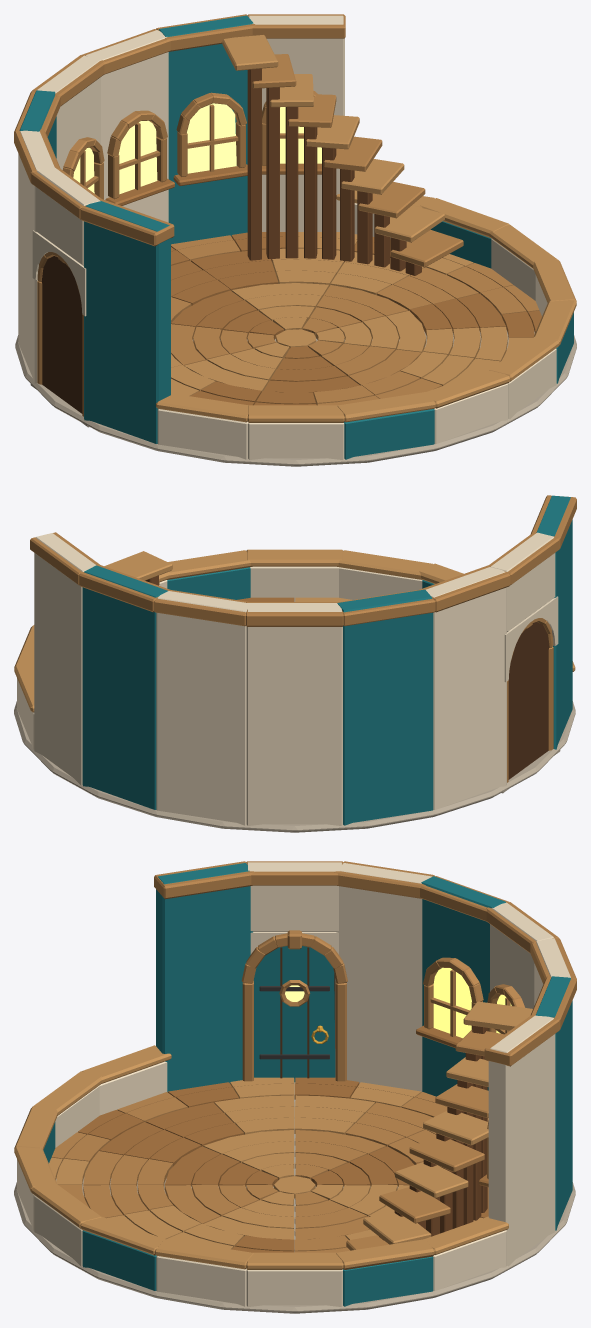
Rendered from lighthouse_loft_interior.glb.
3 views of the same model, one above another, from view 1: azimuth 30°, elevation 25°; view 2: azimuth 150°, elevation 25°; view 3: azimuth 270°, elevation 25° (orthographic).
Visible parts, largest first — view 1: lighthouse_loft_interior; view 2: lighthouse_loft_interior; view 3: lighthouse_loft_interior, part_door_leaf.
Boxes of the visible parts, left/top/right/bottom form: lighthouse_loft_interior: left=14, top=14, right=576, bottom=466; lighthouse_loft_interior: left=14, top=495, right=576, bottom=832; lighthouse_loft_interior: left=14, top=861, right=576, bottom=1313; part_door_leaf: left=254, top=946, right=335, bottom=1082.
Size of the model in its own units: 5.37 by 2.32 by 5.39.
